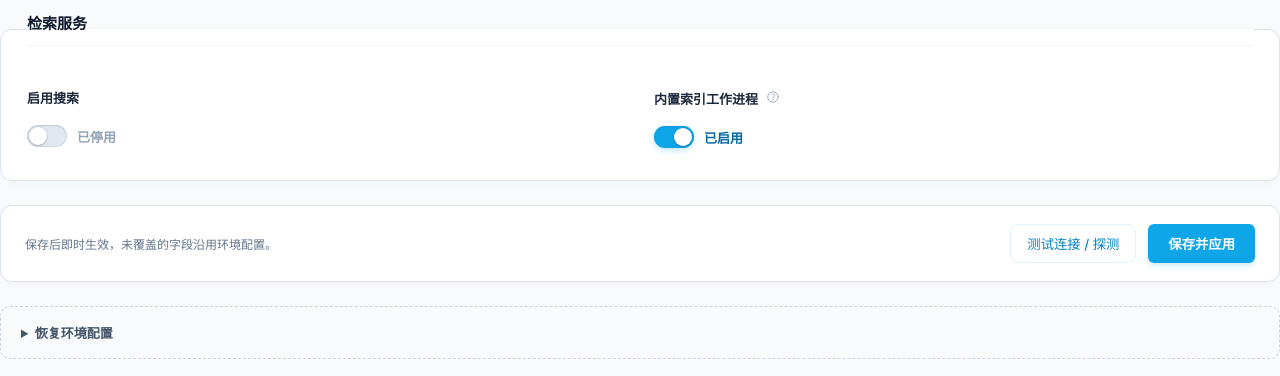
Test: feature configuration boolean fields › reflects the switch state in the status text
Expected: the text with class "switch-state" reads "已停用", [77, 128, 116, 144]
Click the switch with id "feature-search-enabled" at (53, 98), box [27, 88, 79, 107]
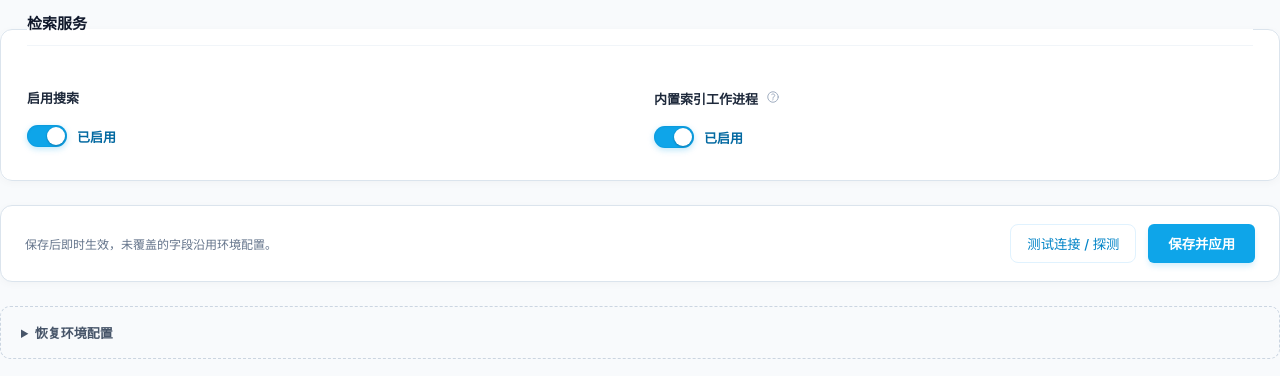
Expected: the text with class "switch-state" below "启用搜索" reads "已启用", [77, 128, 116, 144]
